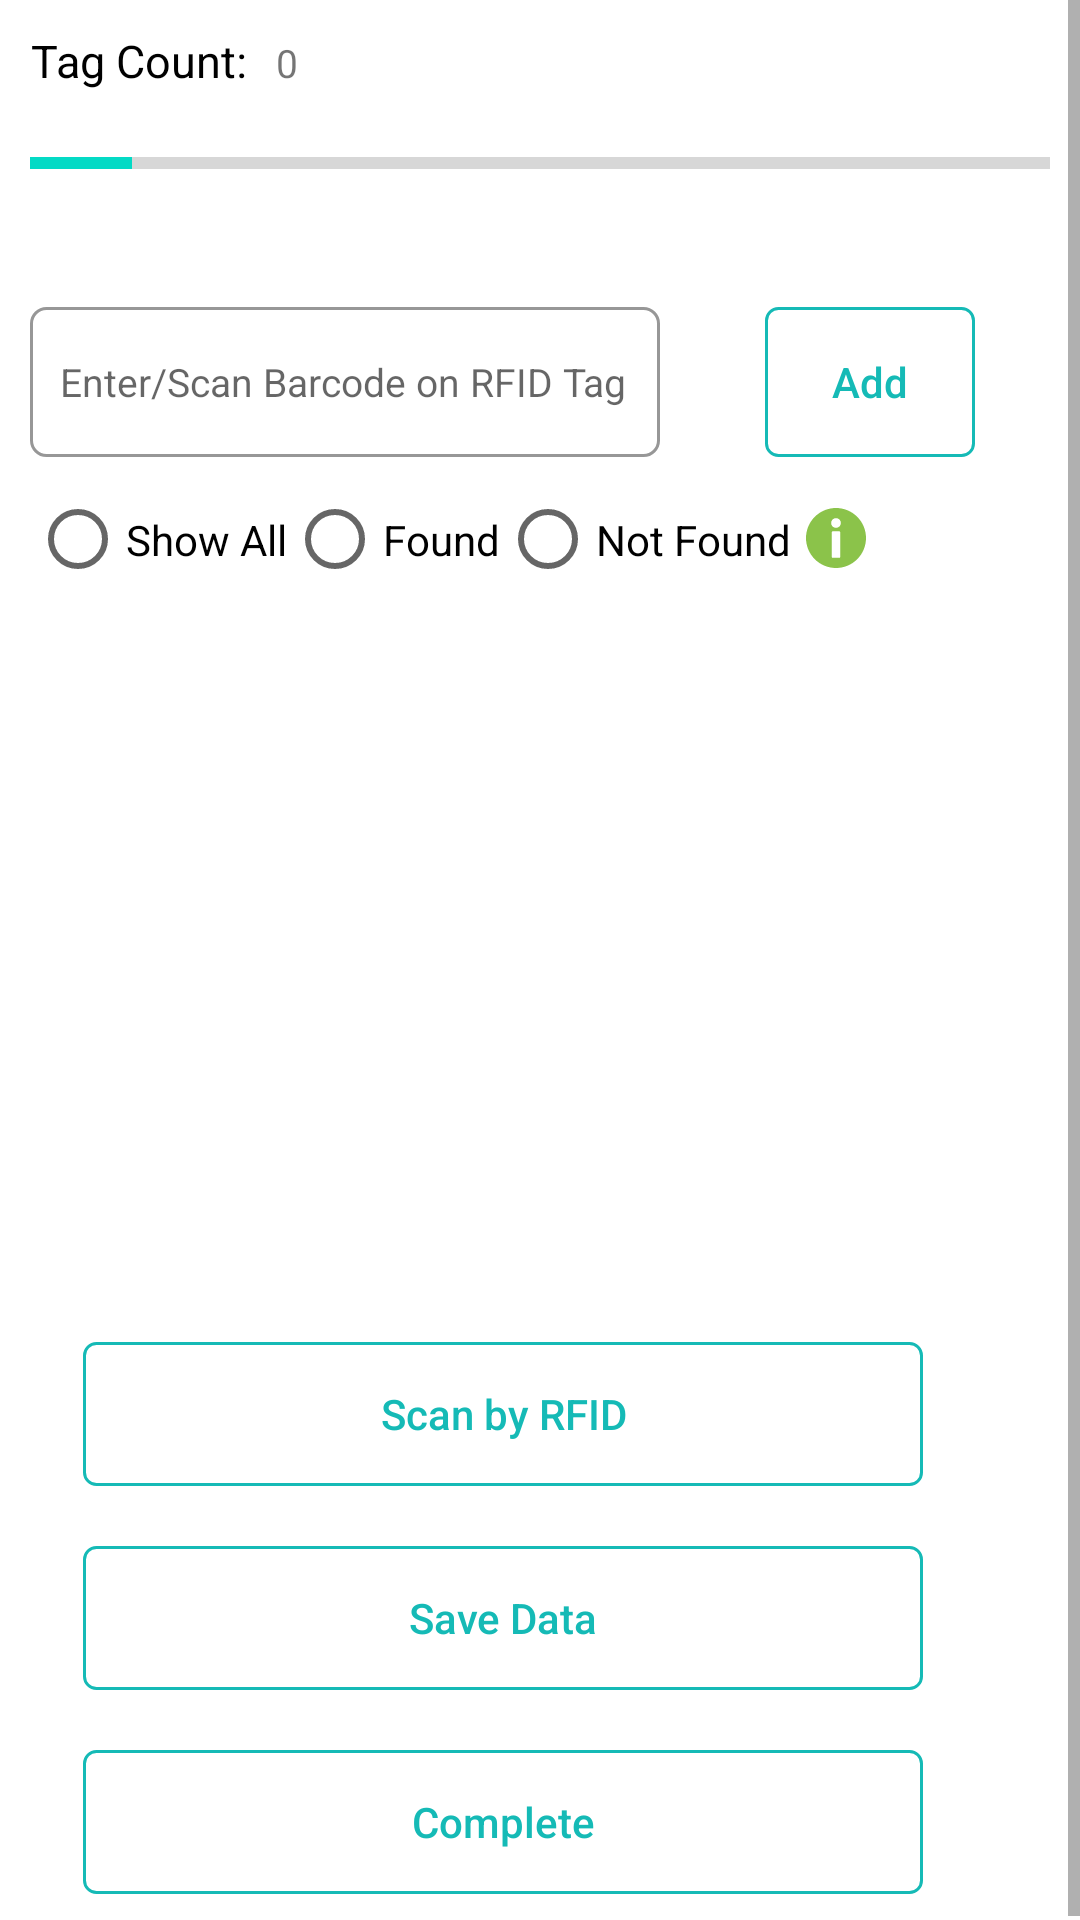

Icon click points for this 1080px×1920px phone screenshot, format point (x, y):
info: point (836, 538)
